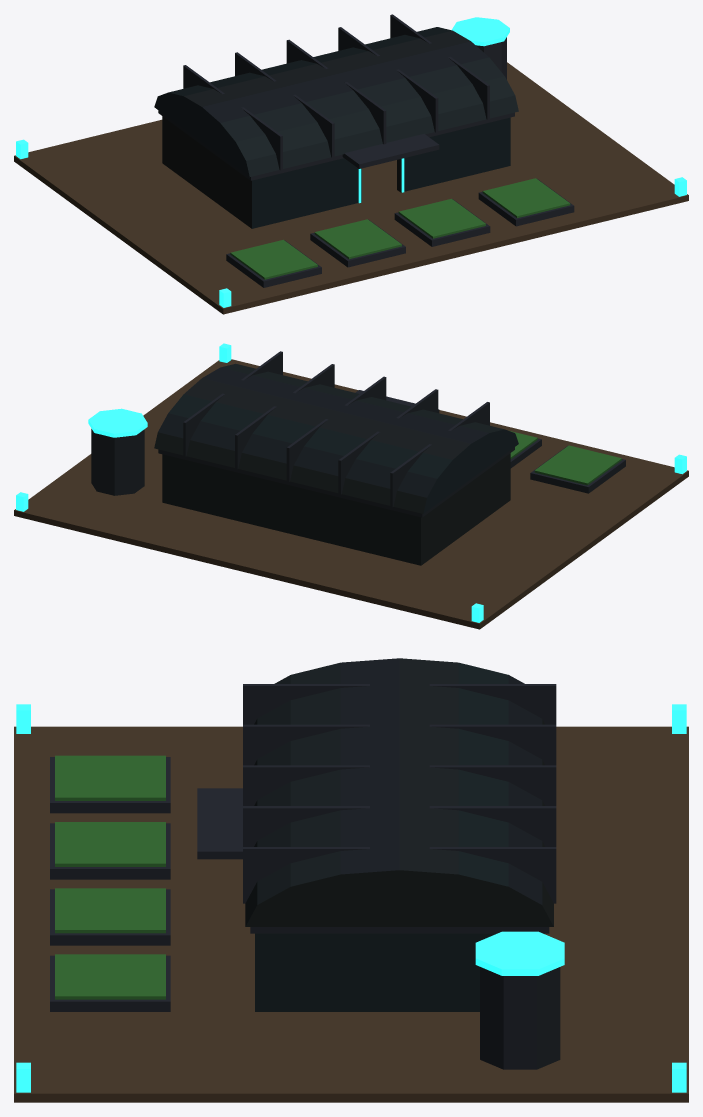
File: shaddai_dist_grid_farm_v01.glb
3 views of the same model, one above another, from view 1: azimuth 30°, elevation 25°; view 2: azimuth 150°, elevation 25°; view 3: azimuth 270°, elevation 25° (orthographic). The views are drawn at different scales.
Visible parts, largest first — view 1: shaddai_dist_grid_farm; view 2: shaddai_dist_grid_farm; view 3: shaddai_dist_grid_farm.
Part boxes in pixels (bbox=[...]): shaddai_dist_grid_farm: bbox=[14, 14, 688, 314]; shaddai_dist_grid_farm: bbox=[14, 343, 688, 629]; shaddai_dist_grid_farm: bbox=[14, 658, 688, 1102].
Size of the model in its own units: 36 by 7.1 by 28.
